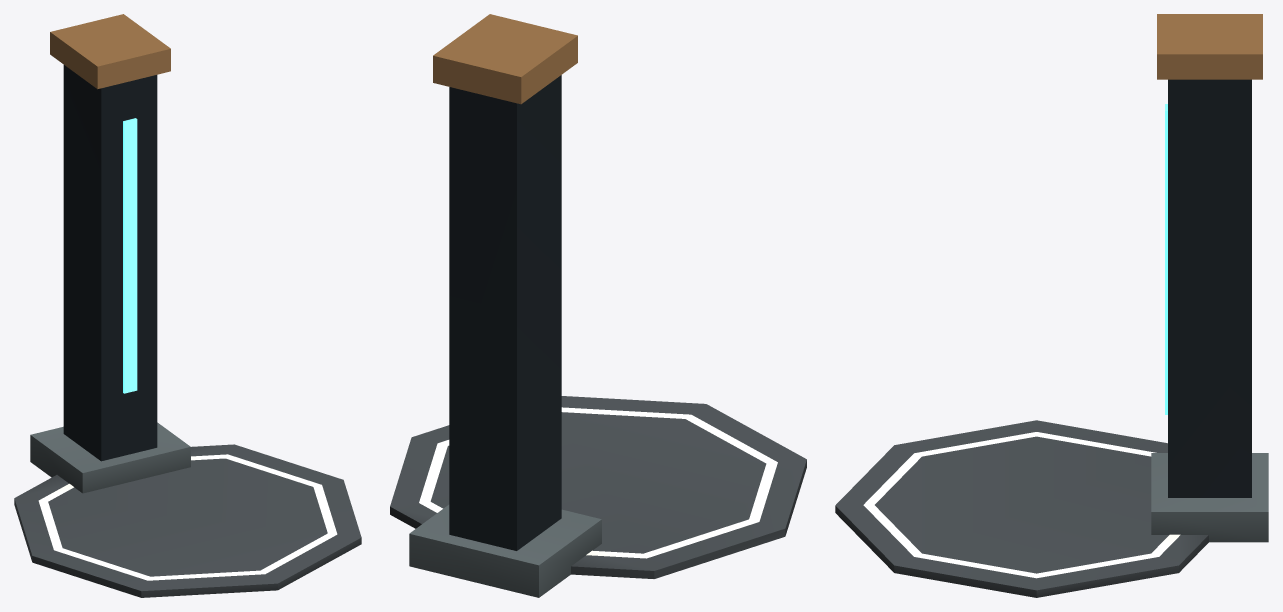
Rendered from charge-post.lod2.glb.
3 renders of one model, left to right at view 1: azimuth 30°, elevation 25°; view 2: azimuth 150°, elevation 25°; view 3: azimuth 270°, elevation 25°, orthographic. The views are drawn at different scales.
Visible parts, largest first — view 1: structure; view 2: structure; view 3: structure.
Part boxes in pixels (left/top/right/bottom): structure: left=14, top=14, right=361, bottom=597; structure: left=390, top=14, right=806, bottom=597; structure: left=835, top=14, right=1268, bottom=597.
Size of the model in its own units: 1.44 by 1.89 by 1.55.
